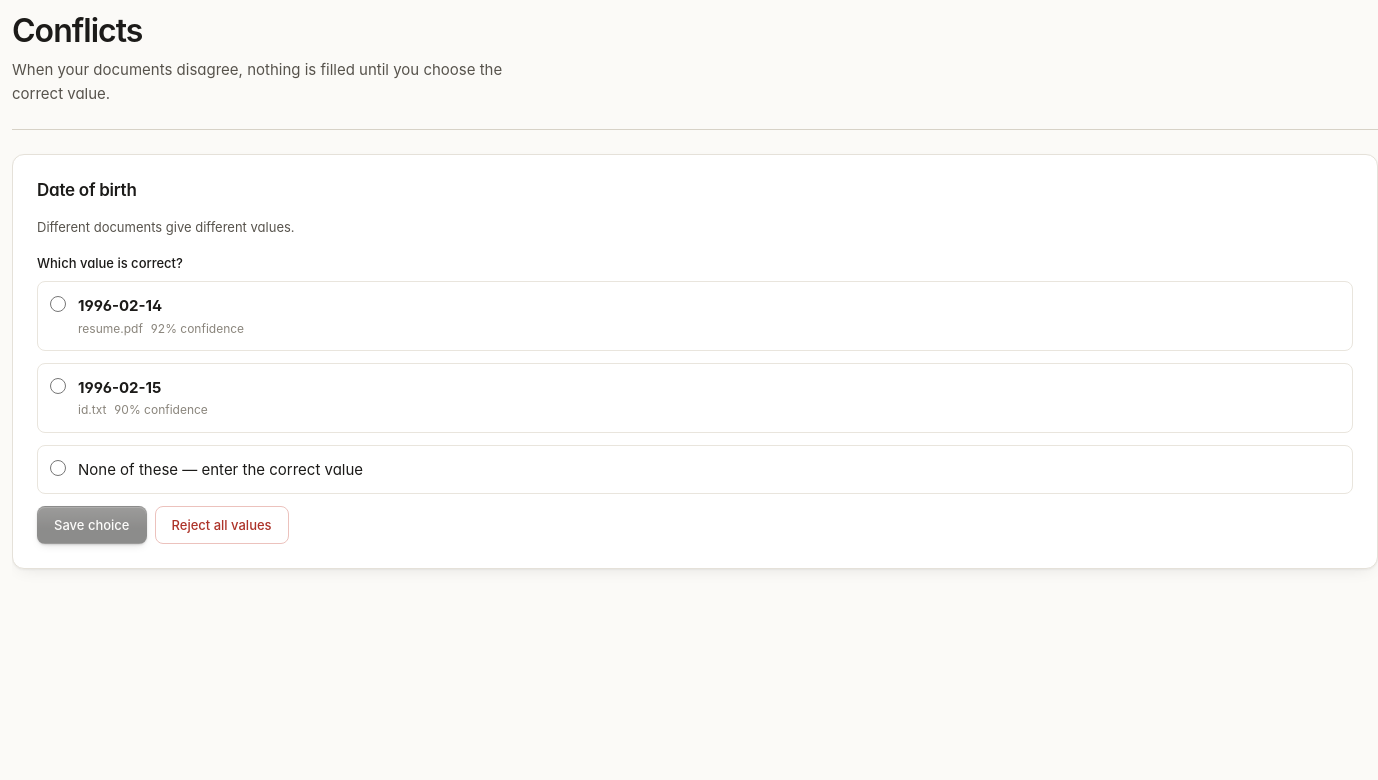
Test: conflicts › resolves a conflict by choosing a candidate
This screenshot has width=1378, height=780.
Click the radio button labelled "1996-02-15 id.txt 90% confidence" at x=58, y=386, box [50, 378, 66, 394]
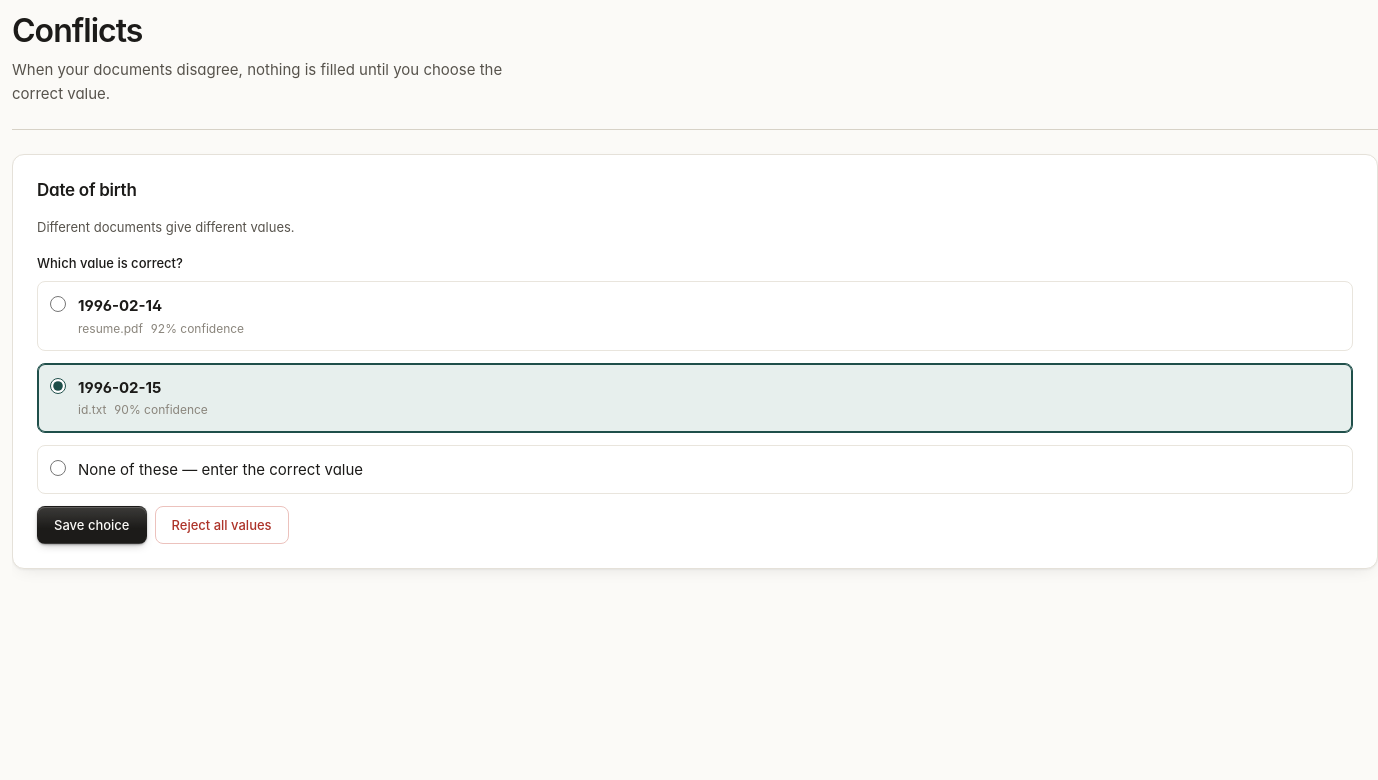
Click the button "Save choice" at x=92, y=525, box [37, 506, 146, 544]
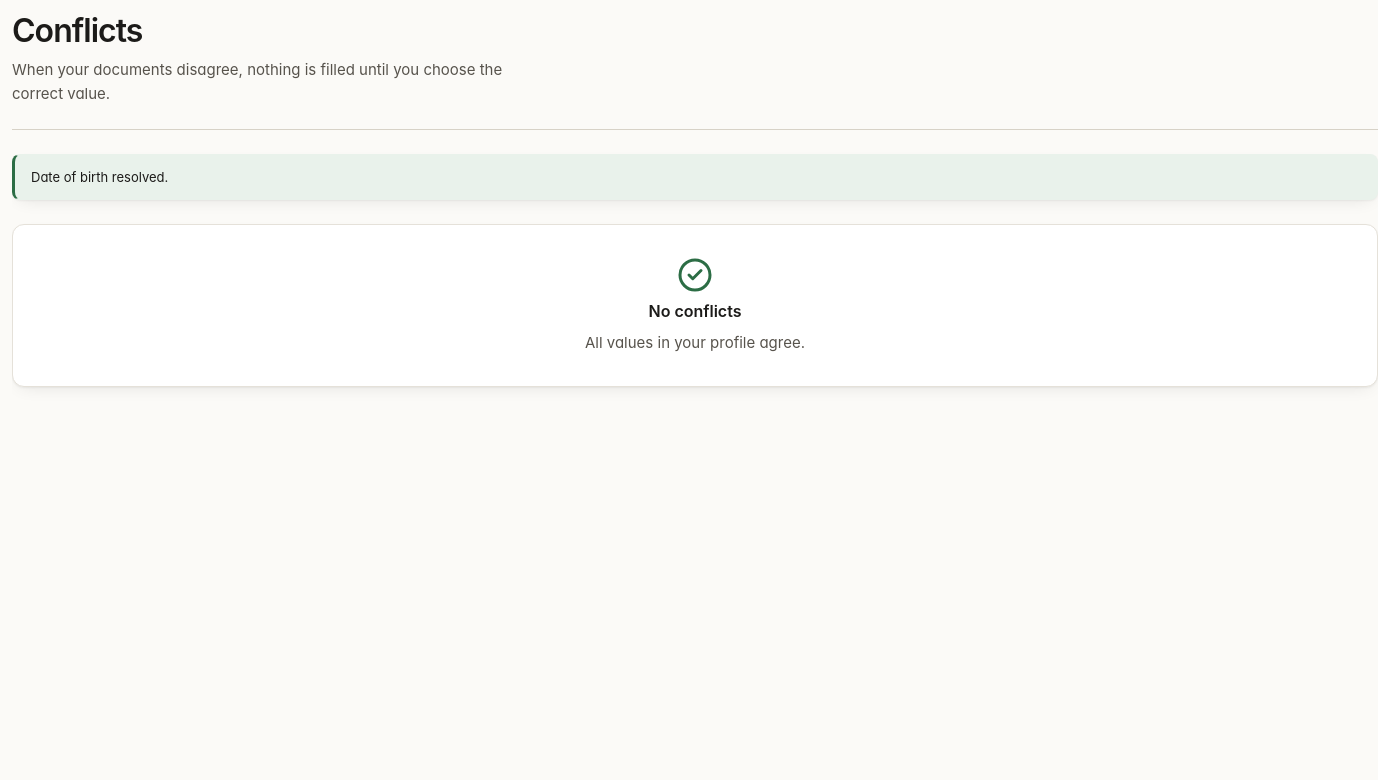
Expected: the text "Date of birth resolved." is shown, [31, 167, 168, 187]
Expected: the heading "No conflicts" is shown, [648, 301, 742, 323]
